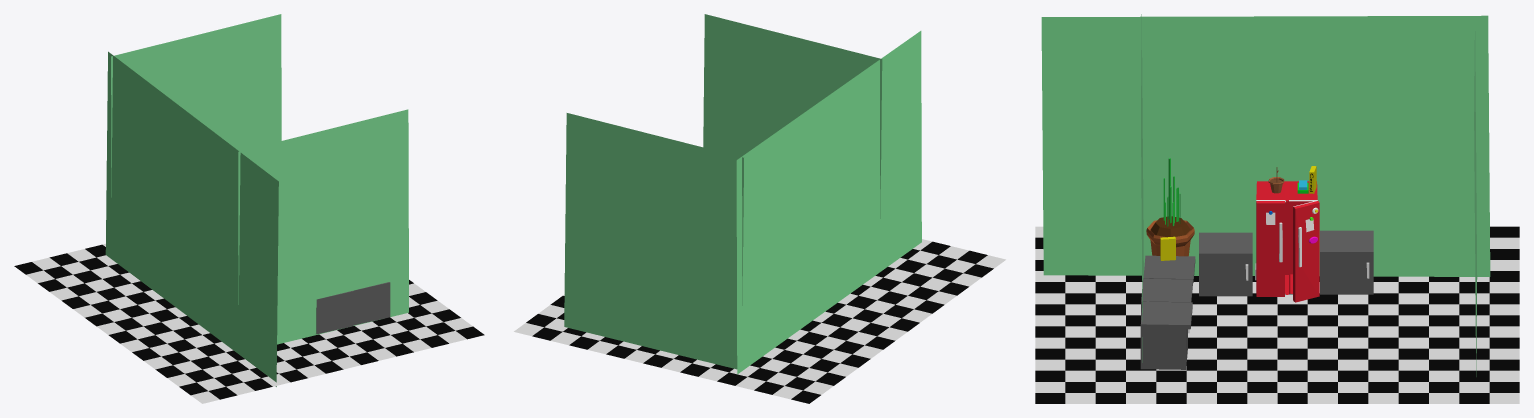
Rendered from Main-menu-room.fbx.
3 renders of one model, left to right at view 1: azimuth 30°, elevation 25°; view 2: azimuth 150°, elevation 25°; view 3: azimuth 270°, elevation 25°, orthographic. The views are drawn at different scales.
Parts seen in each view (by area): view 1: Plane, Plane.004, Plane.002, Plane.003, Cube.008, Cube.007; view 2: Plane, Plane.003, Plane.002, Plane.004; view 3: Plane, Plane.002, Cube.010, Cube.002, Cube.006, Cube.008, Circle.001, Cube.007, Cube.005, Plane.003, Plane.004.
Boxes of the visible parts, x1=… form: Plane: x1=105, y1=51, x2=278, y2=386; Plane.004: x1=238, y1=109, x2=408, y2=344; Plane.002: x1=14, y1=243, x2=484, y2=403; Plane.003: x1=111, y1=14, x2=281, y2=197; Cube.008: x1=353, y1=282, x2=390, y2=325; Cube.007: x1=316, y1=291, x2=353, y2=334; Plane: x1=736, y1=31, x2=921, y2=374; Plane.003: x1=564, y1=113, x2=743, y2=369; Plane.002: x1=514, y1=239, x2=1005, y2=403; Plane.004: x1=703, y1=14, x2=882, y2=218; Plane: x1=1041, y1=15, x2=1490, y2=276; Plane.002: x1=1035, y1=226, x2=1519, y2=403; Cube.010: x1=1255, y1=181, x2=1319, y2=302; Cube.002: x1=1199, y1=232, x2=1252, y2=296; Cube.006: x1=1320, y1=230, x2=1373, y2=294; Cube.008: x1=1140, y1=301, x2=1192, y2=369; Circle.001: x1=1146, y1=158, x2=1194, y2=256; Cube.007: x1=1141, y1=278, x2=1192, y2=319; Cube.005: x1=1143, y1=255, x2=1195, y2=282; Plane.003: x1=1474, y1=31, x2=1477, y2=376; Plane.004: x1=1141, y1=14, x2=1143, y2=362.
Bounding box in the file's own units: 1877 × 1327 × 2168.
